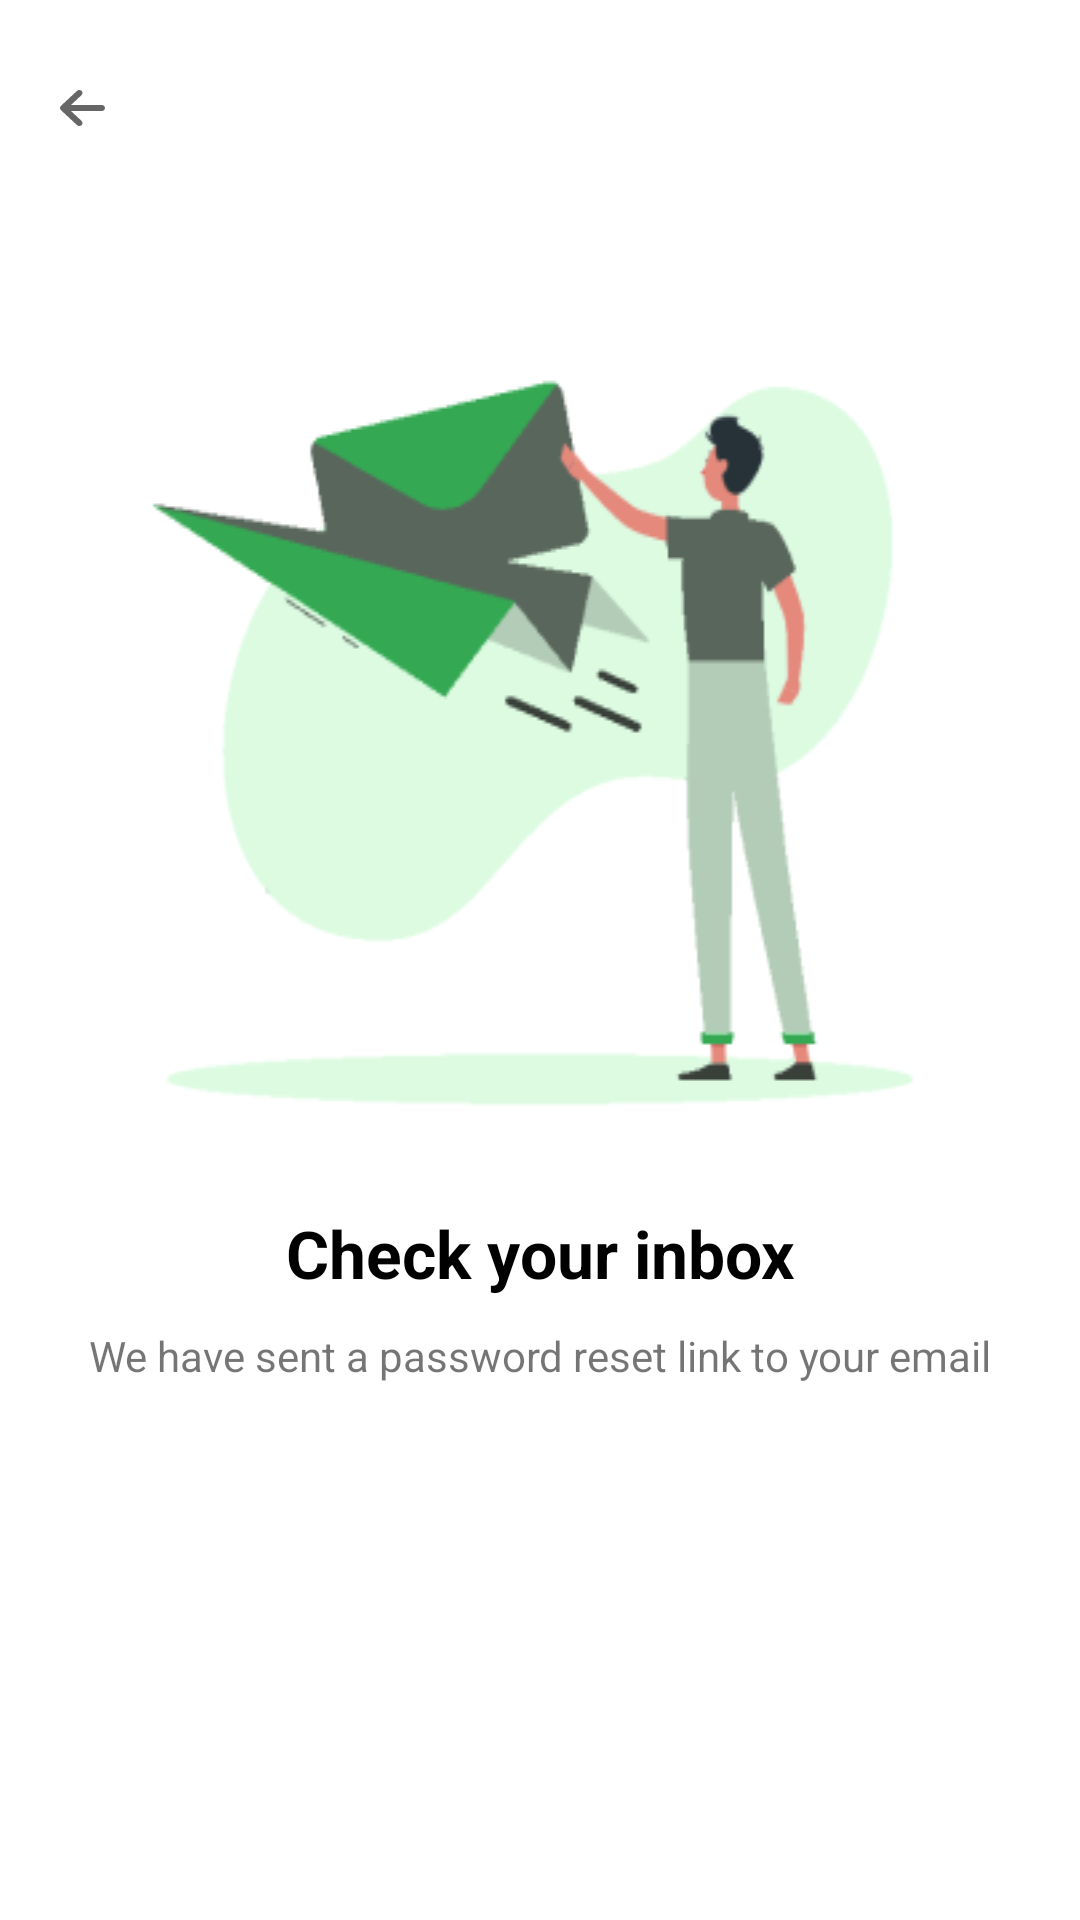

Named icons in this screenshot (1080px×1920px) and their centers, (x,y):
back: (82,108)
